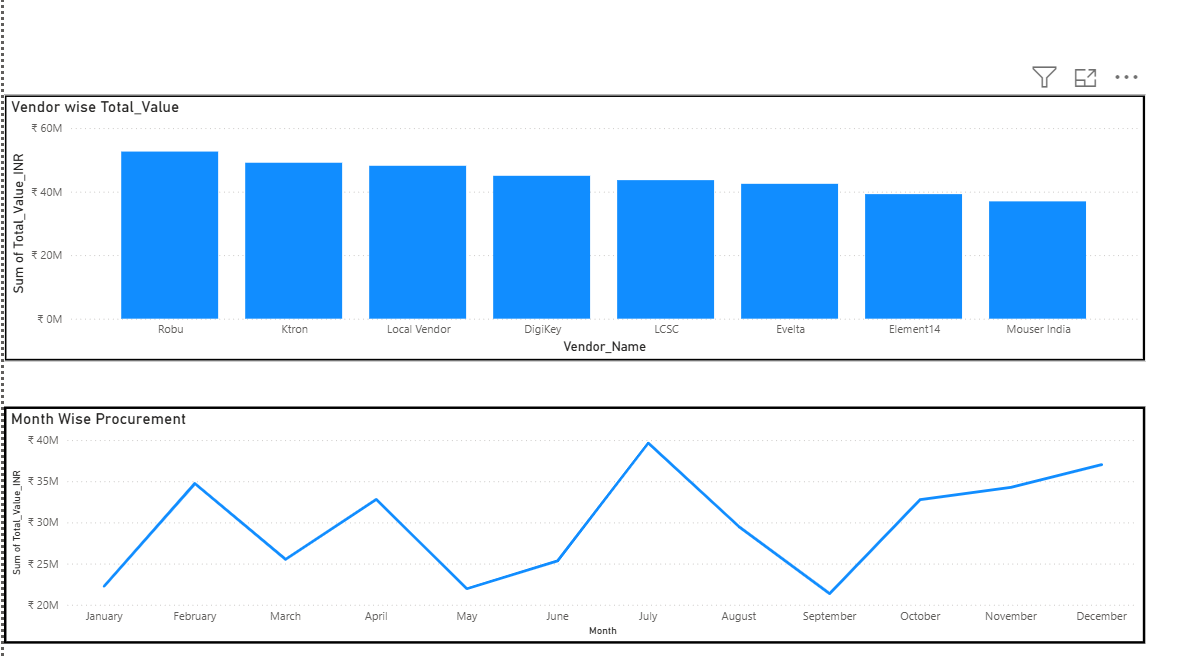

The dashboard page shown, as its layout file describes it:
{"tool":"powerbi","page":{"name":"Page 2","canvas":[1280,720],"ordinal":1},"visuals":[{"type":"lineChart","title":"Month Wise Procurement","fields":{"Category":["Vendor_Performance.Order_Date.Variation.Date Hierarchy.Month"],"Y":["Sum(Vendor_Performance.Total_Value_INR)"]},"box":[0,448,1232,256],"z":0},{"type":"clusteredColumnChart","title":"Vendor wise Total_Value","fields":{"Category":["Vendor_Performance.Vendor_Name"],"Y":["Sum(Vendor_Performance.Total_Value_INR)"]},"box":[0,112,1232,288],"z":1000},{"type":"textbox","box":[128,0,1040,80],"z":1001}]}

Visuals, with their boxes in screenshot pixels (x1, y1, x2, y2), scaled from the page's 1280x720 canvas onto the 1188x656 screenshot:
"Month Wise Procurement" lineChart: <region>0, 408, 1143, 641</region>
"Vendor wise Total_Value" clusteredColumnChart: <region>0, 102, 1143, 364</region>
textbox: <region>119, 0, 1084, 73</region>
